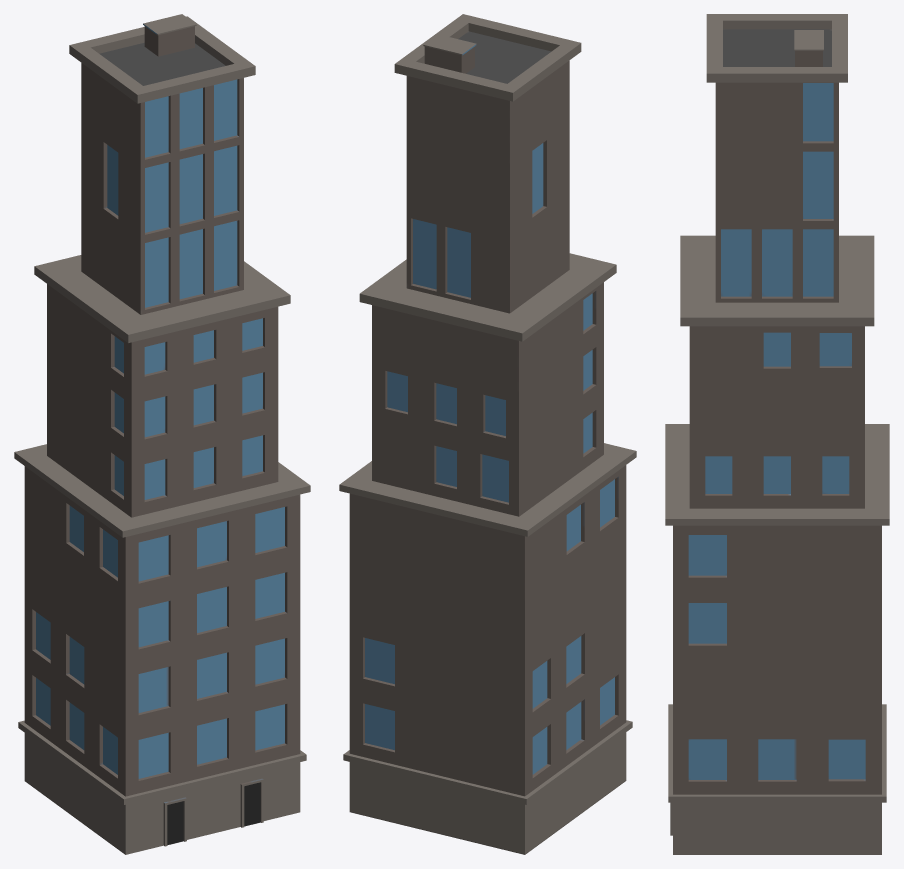
Rendered from CityBuilding07.glb.
3 views of the same model, side by side, from view 1: azimuth 30°, elevation 25°; view 2: azimuth 150°, elevation 25°; view 3: azimuth 270°, elevation 25° (orthographic). The views are drawn at different scales.
Parts seen in each view (by area): view 1: CityBuilding07; view 2: CityBuilding07; view 3: CityBuilding07.
Part boxes in pixels (left/top/right/bottom): CityBuilding07: left=14, top=14, right=310, bottom=854; CityBuilding07: left=339, top=14, right=636, bottom=854; CityBuilding07: left=665, top=14, right=889, bottom=854.
Size of what is drawn, in the model's own units: 8.69 by 33.4 by 8.69.
1 material, 1 textured.
